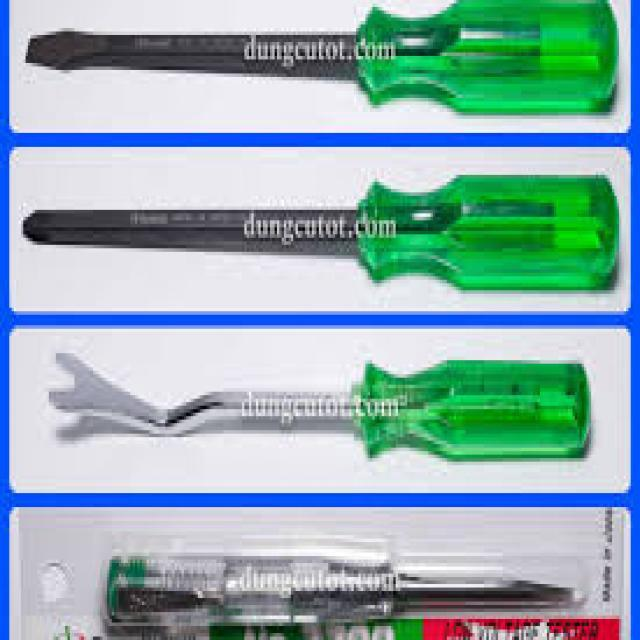screwdriver: (15, 164, 623, 308), (25, 0, 622, 119), (90, 544, 590, 638)
